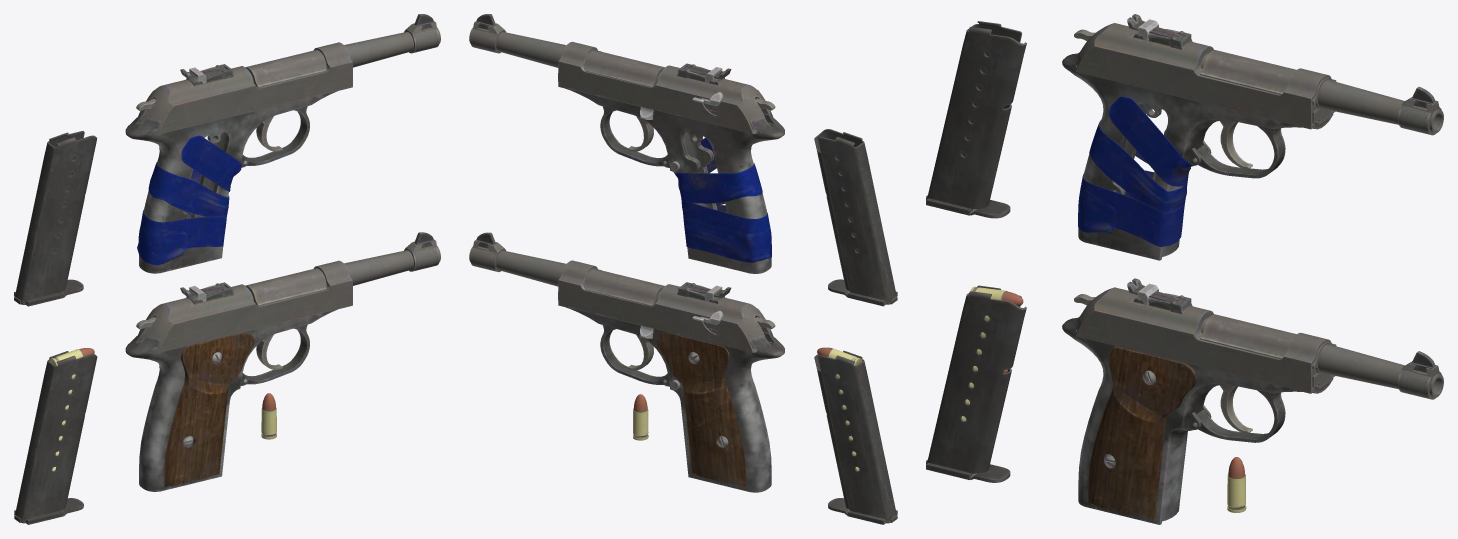
The model's file is service_pistol.glb.
The picture shows the model from 3 angles, left to right: view 1: azimuth 30°, elevation 25°; view 2: azimuth 150°, elevation 25°; view 3: azimuth 330°, elevation 25°; orthographic projection. The views are drawn at different scales.
Visible parts, largest first — view 1: service_pistol_pistol_b, service_pistol_pistol_a, service_pistol_magazine_loaded, service_pistol_magazine_empty, service_pistol_slide_a, service_pistol_slide_b, service_pistol_bullet; view 2: service_pistol_pistol_b, service_pistol_pistol_a, service_pistol_magazine_loaded, service_pistol_magazine_empty, service_pistol_slide_a, service_pistol_slide_b, service_pistol_bullet; view 3: service_pistol_pistol_a, service_pistol_pistol_b, service_pistol_magazine_loaded, service_pistol_magazine_empty, service_pistol_slide_b, service_pistol_slide_a, service_pistol_bullet, service_pistol_trigger_b, service_pistol_trigger_a.
Boxes of the visible parts, x1,y1,x2,y2 form: service_pistol_pistol_b: (125,14,440,273); service_pistol_pistol_a: (125,232,440,491); service_pistol_magazine_loaded: (14,348,97,524); service_pistol_magazine_empty: (14,131,97,306); service_pistol_slide_a: (141,260,352,352); service_pistol_slide_b: (141,42,352,134); service_pistol_bullet: (261,393,276,439); service_pistol_pistol_b: (469,14,784,273); service_pistol_pistol_a: (469,232,784,492); service_pistol_magazine_loaded: (814,347,897,524); service_pistol_magazine_empty: (814,129,897,306); service_pistol_slide_a: (558,260,772,352); service_pistol_slide_b: (558,41,772,133); service_pistol_bullet: (633,394,648,440); service_pistol_pistol_a: (1062,314,1443,524); service_pistol_pistol_b: (1062,50,1443,260); service_pistol_magazine_loaded: (926,285,1026,482); service_pistol_magazine_empty: (926,21,1026,218); service_pistol_slide_b: (1075,14,1336,129); service_pistol_slide_a: (1075,278,1336,393); service_pistol_bullet: (1227,457,1246,512); service_pistol_trigger_b: (1220,120,1252,169); service_pistol_trigger_a: (1220,384,1252,433).
Bounding box in the file's own units: 0.3016 × 0.2807 × 0.0318.
Materials: 1 (1 with a texture image).
